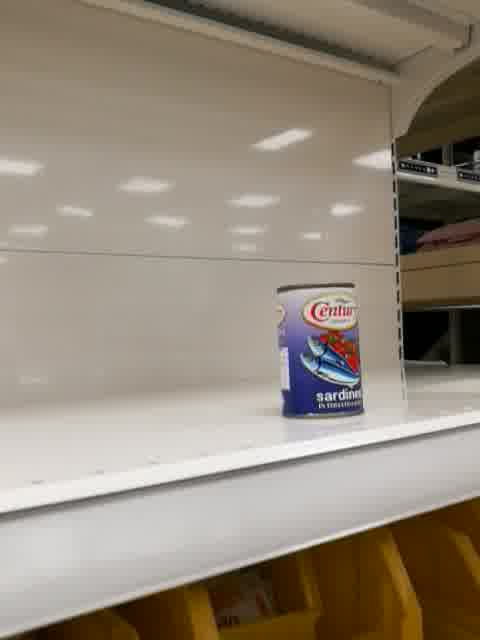sardine: (273, 281, 366, 421)
